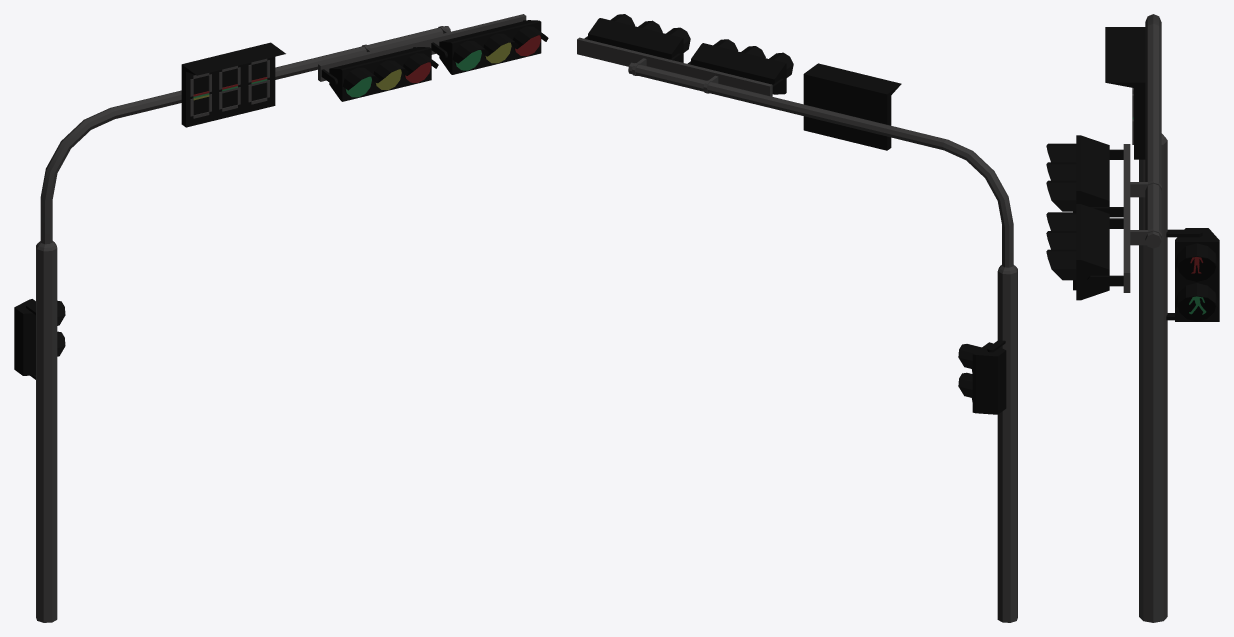
File: traffic-CD-double (1).fbx
3 renders of one model, left to right at view 1: azimuth 30°, elevation 25°; view 2: azimuth 150°, elevation 25°; view 3: azimuth 270°, elevation 25°, orthographic. The views are drawn at different scales.
Visible parts, largest first — view 1: polySurface253; view 2: polySurface253; view 3: polySurface253.
Boxes of the visible parts, x1=… form: polySurface253: x1=14, y1=14, x2=548, y2=622; polySurface253: x1=577, y1=14, x2=1017, y2=622; polySurface253: x1=1046, y1=14, x2=1219, y2=622.
Bounding box in the file's own units: 7.94 × 8.3 × 1.94.
